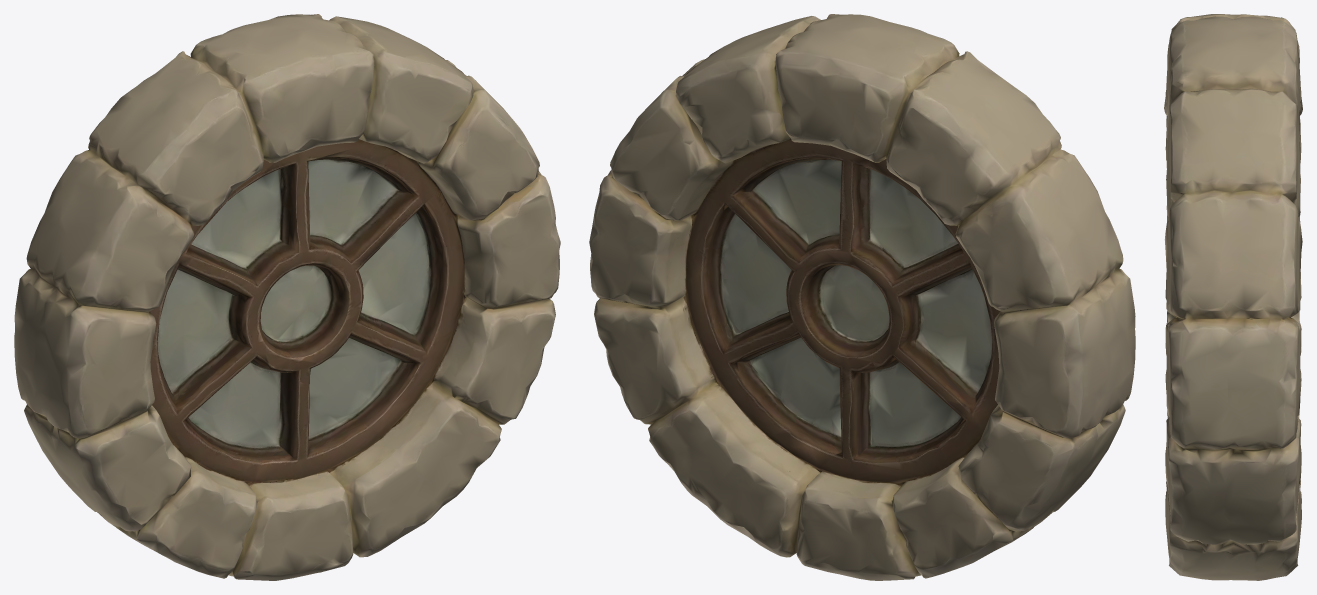
The model's file is mod_win_c.glb.
The picture shows the model from 3 angles, left to right: view 1: azimuth 30°, elevation 25°; view 2: azimuth 150°, elevation 25°; view 3: azimuth 270°, elevation 25°; orthographic projection. The views are drawn at different scales.
Visible parts, largest first — view 1: tripo_node_cef7f5ee-bf21-4395-8c64-92db3ded4ca1; view 2: tripo_node_cef7f5ee-bf21-4395-8c64-92db3ded4ca1; view 3: tripo_node_cef7f5ee-bf21-4395-8c64-92db3ded4ca1.
Part boxes in pixels (x1,y1,x2,y2): tripo_node_cef7f5ee-bf21-4395-8c64-92db3ded4ca1: (14,14,560,580); tripo_node_cef7f5ee-bf21-4395-8c64-92db3ded4ca1: (589,14,1135,580); tripo_node_cef7f5ee-bf21-4395-8c64-92db3ded4ca1: (1164,14,1302,580).
Size of the model in its own units: 0.977 by 0.981 by 0.2407.
Materials: 1 (1 with a texture image).
